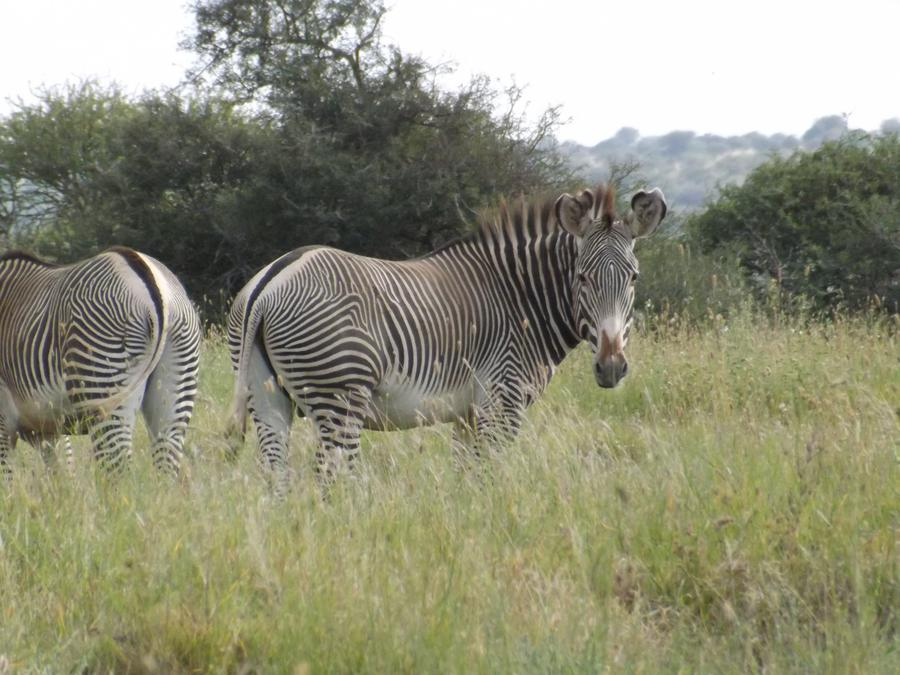zebra_grevys: (249, 251, 537, 398)
